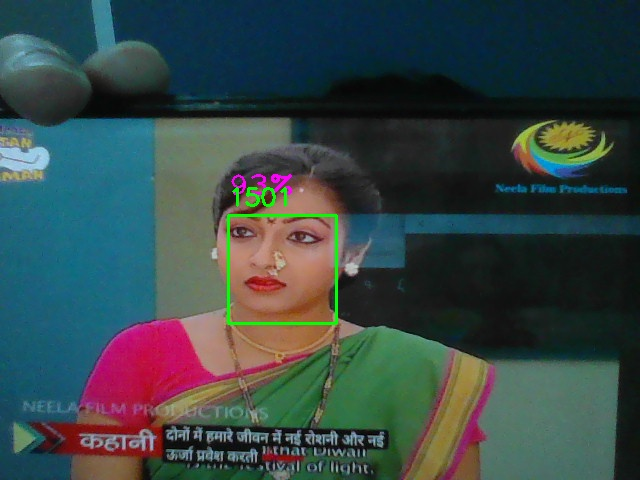fake: (228, 215, 337, 324)
